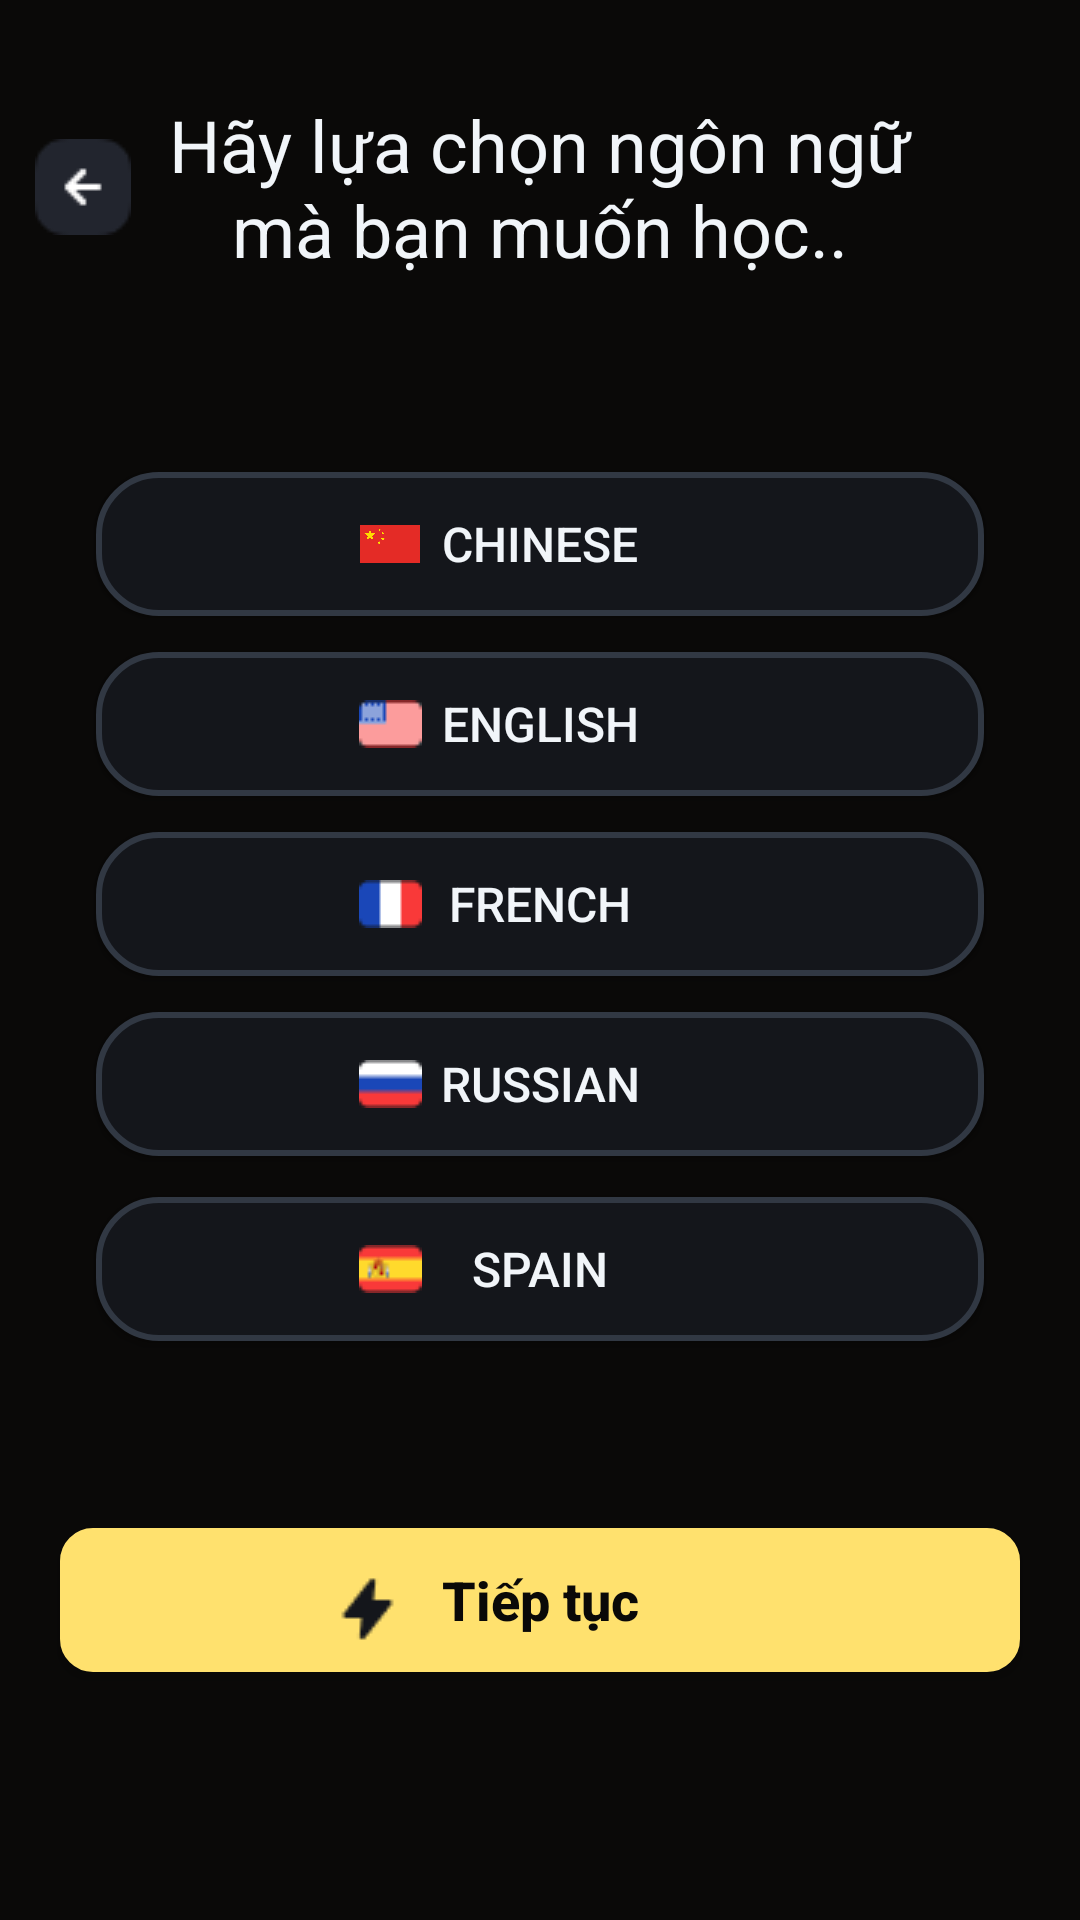

Icons on this 1080px×1920px Android screen, each with its box as bbox=(x1, y1, x2, y2):
btnexit: bbox=(35, 139, 131, 235)
china: bbox=(360, 525, 420, 563)
eng: bbox=(359, 700, 422, 748)
